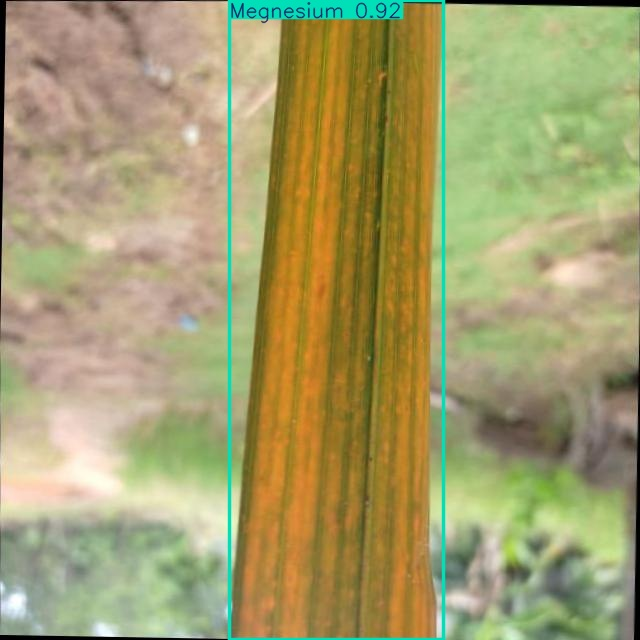Megnesium: (229, 0, 443, 640)
